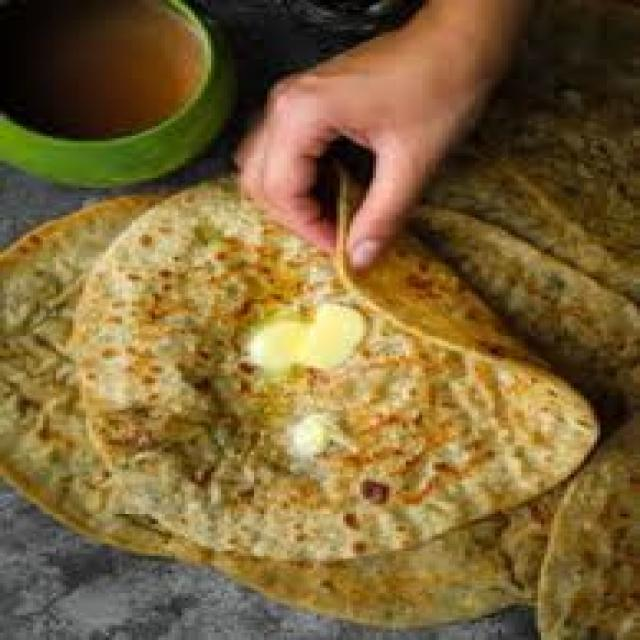ROTI: (0, 198, 531, 625), (69, 183, 594, 558)
